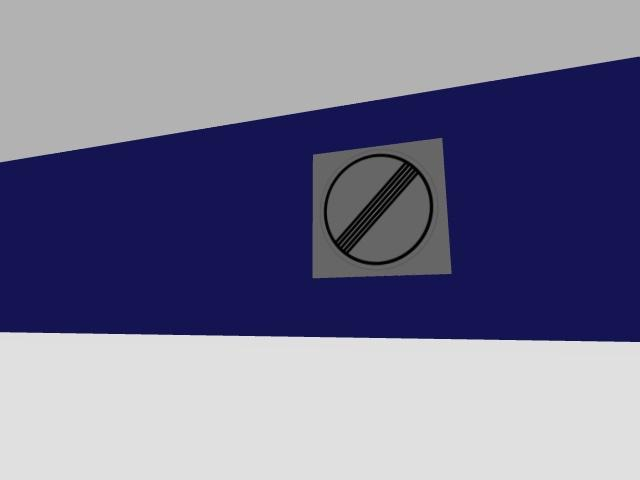fastsign: (312, 138, 451, 277)
